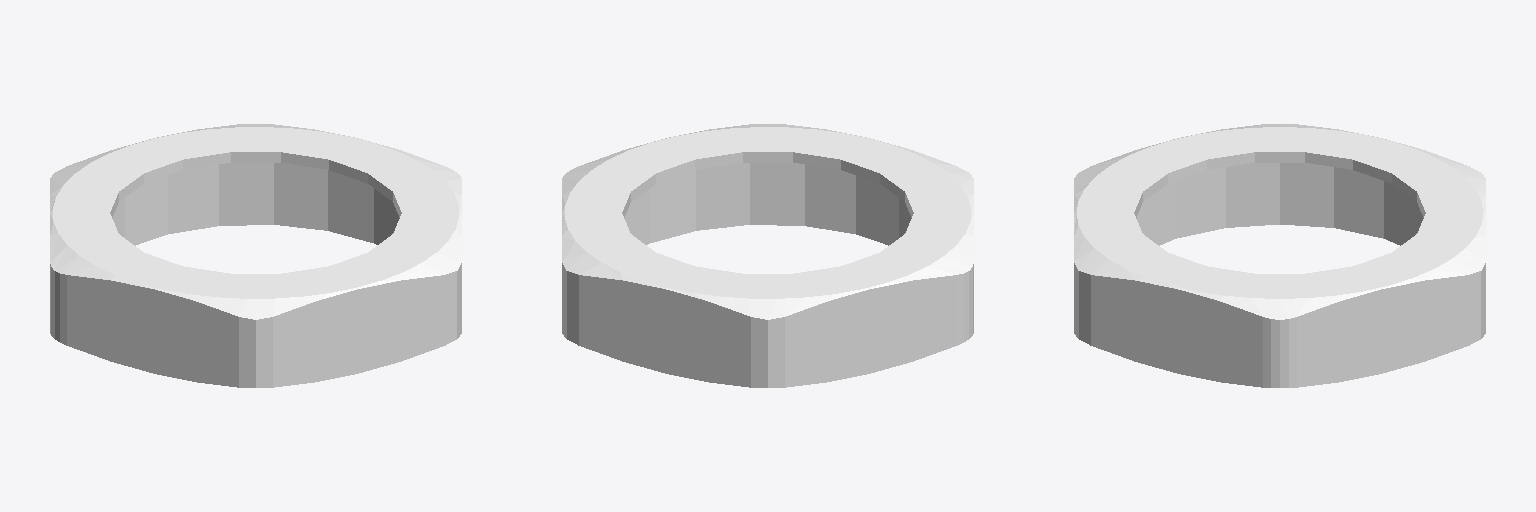
The model's file is handadapter.obj.
3 views of the same model, side by side, from view 1: azimuth 30°, elevation 25°; view 2: azimuth 150°, elevation 25°; view 3: azimuth 270°, elevation 25° (orthographic).
Visible parts, largest first — view 1: handadapter; view 2: handadapter; view 3: handadapter.
Boxes of the visible parts, x1=… form: handadapter: x1=50, y1=124, x2=461, y2=387; handadapter: x1=562, y1=124, x2=973, y2=387; handadapter: x1=1074, y1=124, x2=1485, y2=387.
Bounding box in the file's own units: 0.0406 × 0.0083 × 0.036.